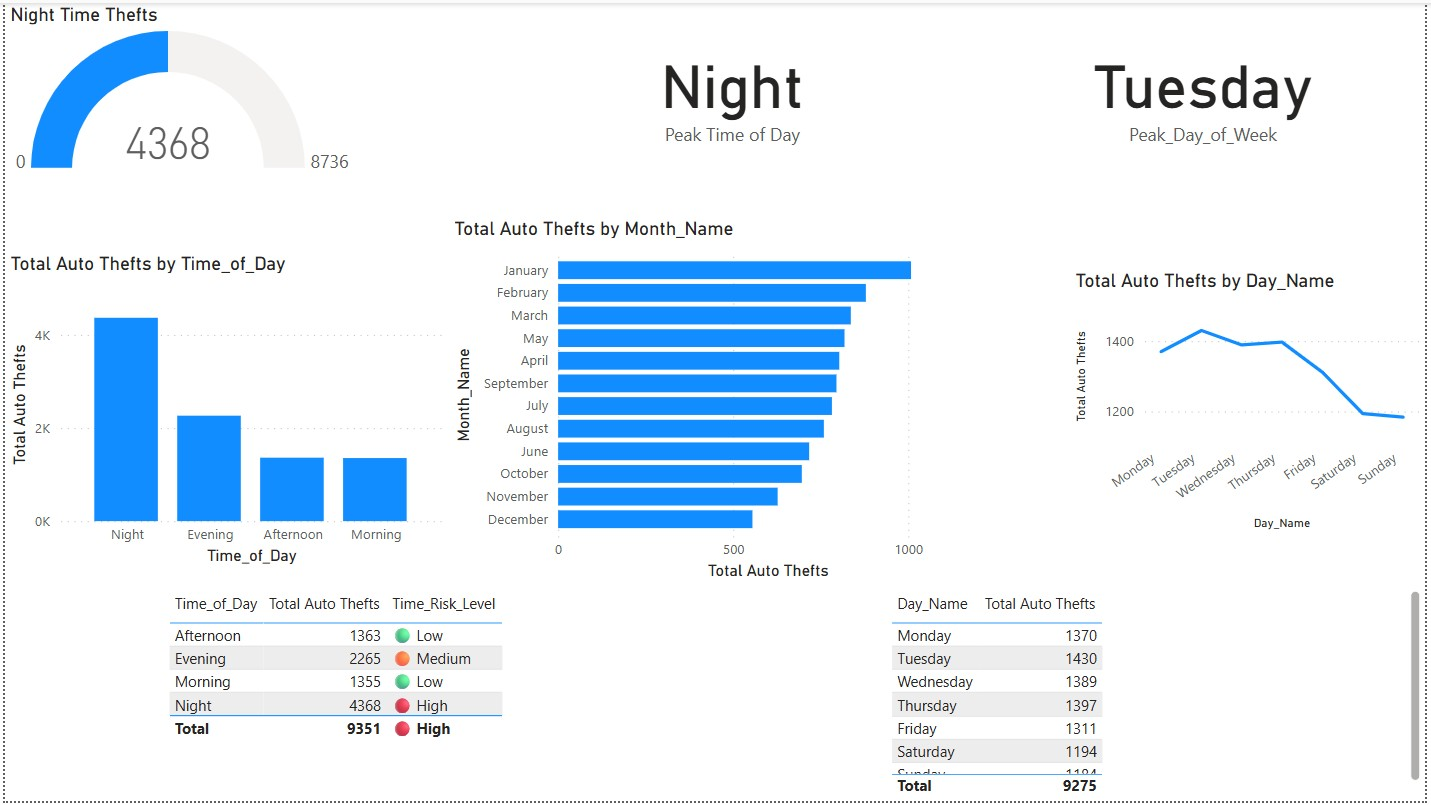

The page's visual inventory and layout, read from the dashboard file:
{"tool":"powerbi","page":{"name":"What times of the day, days of the week have the highest number of car thefts?","canvas":[1280,720],"ordinal":0},"visuals":[{"type":"columnChart","fields":{"Category":["Dim_Time.Time_of_Day"],"Y":["Autotheft2024.Total Auto Thefts"]},"box":[0,224.5,399.9,286.9],"z":0},{"type":"clusteredBarChart","fields":{"Category":["Ultimate_Calender.Month_Name"],"Y":["Autotheft2024.Total Auto Thefts"]},"box":[399.9,192.6,495.5,332.1],"z":1000},{"type":"lineChart","fields":{"Category":["Dim_Day.Day_Name"],"Y":["Autotheft2024.Total Auto Thefts"]},"box":[960,240,320,240],"z":2000},{"type":"card","fields":{"Values":["Autotheft2024.Peak Time of Day"]},"box":[496,0,320,160],"z":3000},{"type":"card","fields":{"Values":["Autotheft2024.Peak_Day_of_Week"]},"box":[880,0,400,160],"z":4000},{"type":"gauge","fields":{"Y":["Autotheft2024.Night Time Thefts"]},"box":[0,0,320,160],"z":5000},{"type":"tableEx","fields":{"Values":["Dim_Time.Time_of_Day","Autotheft2024.Total Auto Thefts","Autotheft2024.Time_Risk_Level"]},"box":[142.1,524.7,466.3,195.3],"z":6000},{"type":"tableEx","fields":{"Values":["Ultimate_Calender.Day_Name","Autotheft2024.Total Auto Thefts"]},"box":[793.1,524.7,487.5,195.3],"z":7000}]}

Visuals, with their boxes in screenshot pixels (x1, y1, x2, y2), scaled from the page's 1280x720 canvas onto the 1431x805 screenshot:
columnChart - Dim_Time.Time_of_Day x Autotheft2024.Total Auto Thefts: (0,251,447,572)
clusteredBarChart - Ultimate_Calender.Month_Name x Autotheft2024.Total Auto Thefts: (447,215,1001,587)
lineChart - Dim_Day.Day_Name x Autotheft2024.Total Auto Thefts: (1073,268,1430,537)
card - Autotheft2024.Peak Time of Day: (555,0,912,179)
card - Autotheft2024.Peak_Day_of_Week: (984,0,1430,179)
gauge - Autotheft2024.Night Time Thefts: (0,0,358,179)
tableEx - Dim_Time.Time_of_Day x Autotheft2024.Total Auto Thefts: (159,587,680,804)
tableEx - Ultimate_Calender.Day_Name x Autotheft2024.Total Auto Thefts: (887,587,1430,804)
